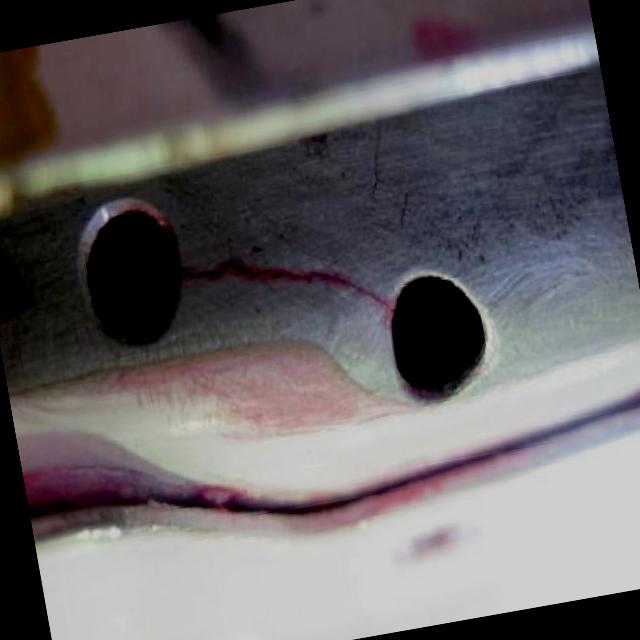crack: (342, 271, 390, 311), (277, 258, 339, 288), (222, 252, 278, 278), (182, 262, 222, 280)
